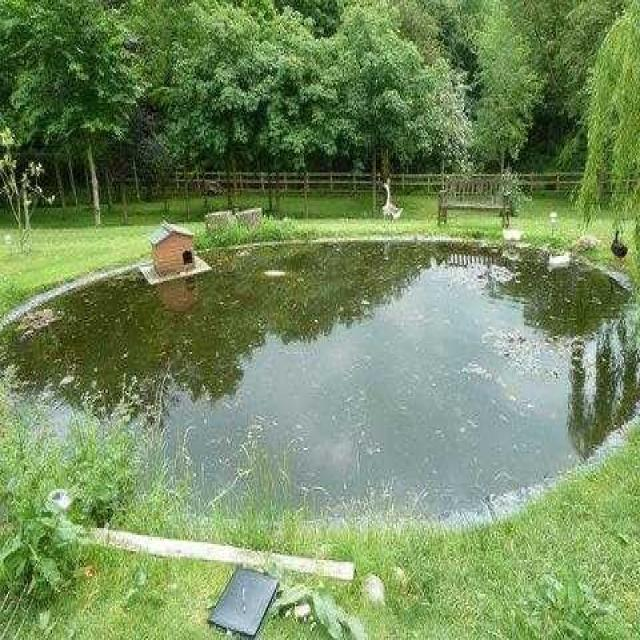Ponds: (1, 240, 632, 524)
